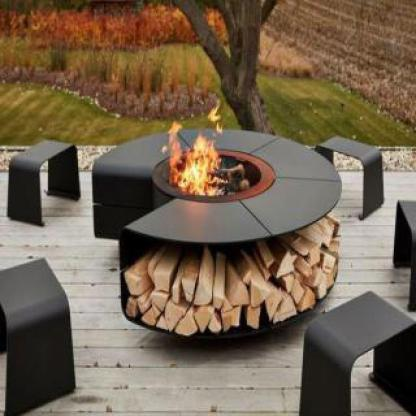fire: (161, 106, 229, 192)
